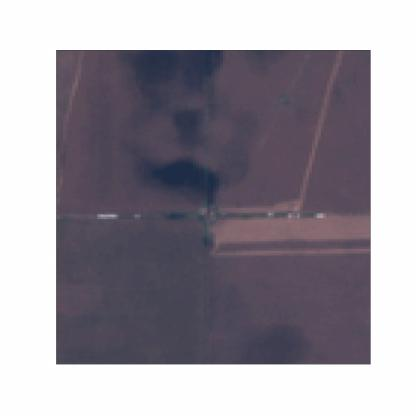silobolsa: (95, 212, 122, 219)
